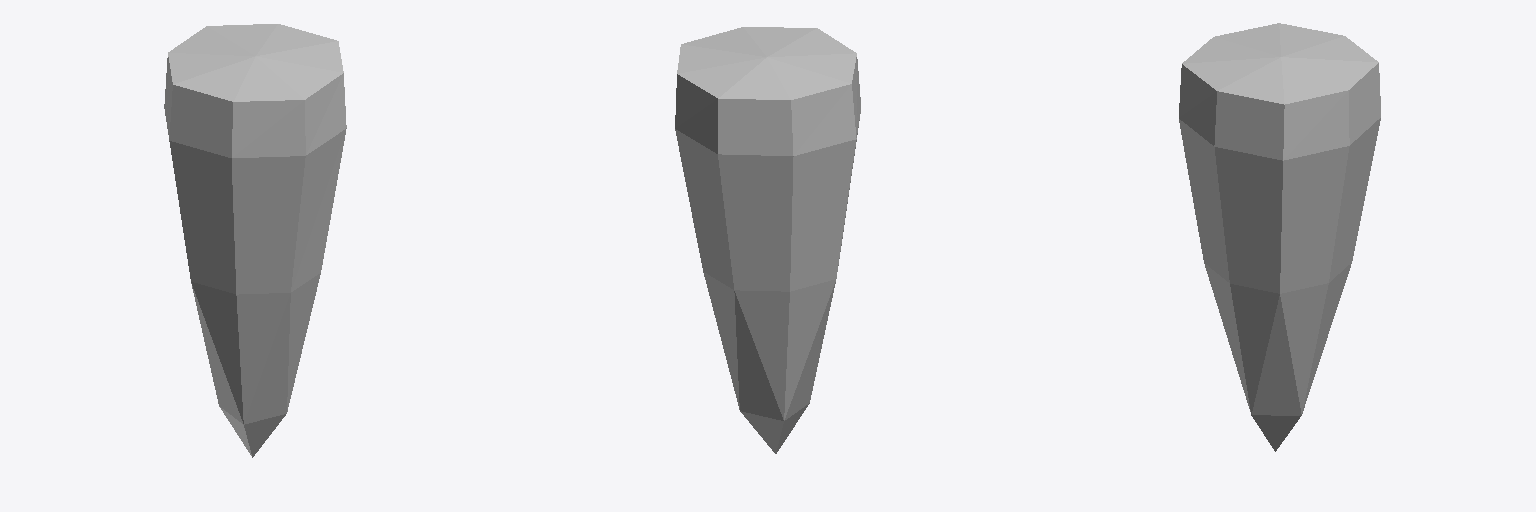
The model's file is step_stone_02.obj.
The picture shows the model from 3 angles: view 1: azimuth 30°, elevation 25°; view 2: azimuth 150°, elevation 25°; view 3: azimuth 270°, elevation 25°; orthographic projection.
Parts seen in each view (by area): view 1: step_stone_02; view 2: step_stone_02; view 3: step_stone_02.
Part boxes in pixels (x1,y1,x2,y2): step_stone_02: (164, 24, 346, 457); step_stone_02: (675, 27, 860, 453); step_stone_02: (1179, 23, 1380, 451).
Size of the model in its own units: 153 by 332 by 153.